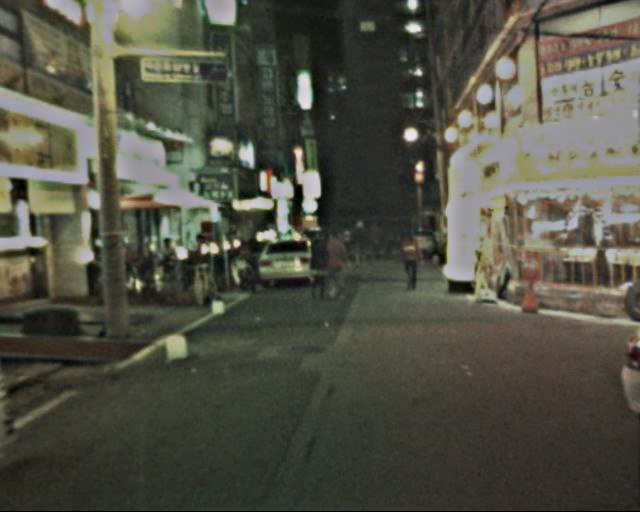person: (321, 224, 352, 304), (303, 225, 332, 304), (396, 226, 425, 294), (349, 215, 374, 270), (368, 222, 396, 262)
